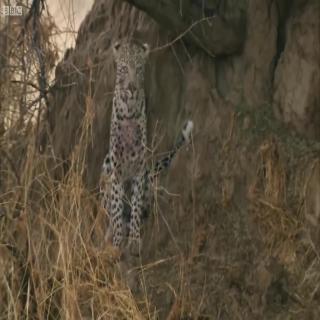Leopard: (90, 28, 169, 263)
